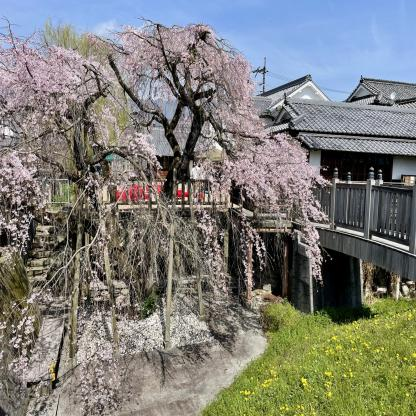ShidareZakura: (0, 13, 336, 416)
